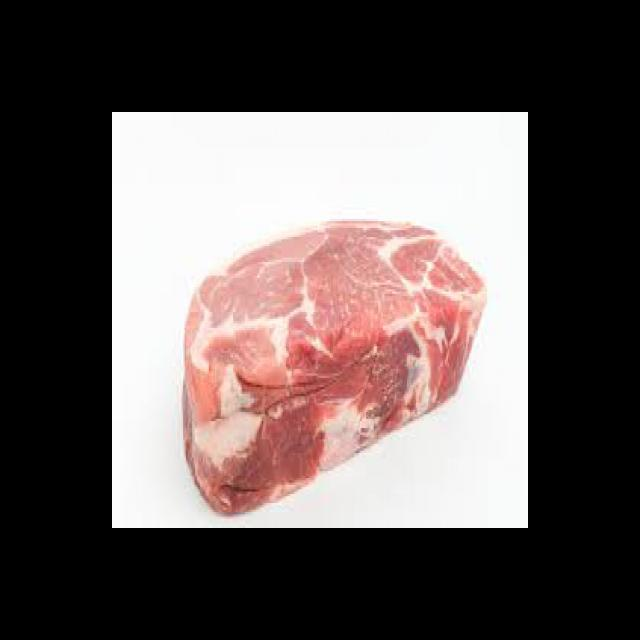pork: (192, 253, 499, 476)
